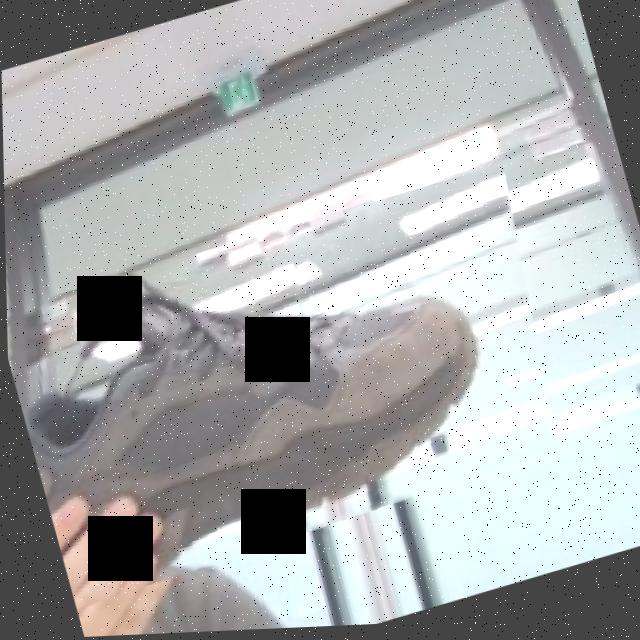shoe: (3, 164, 585, 612)
